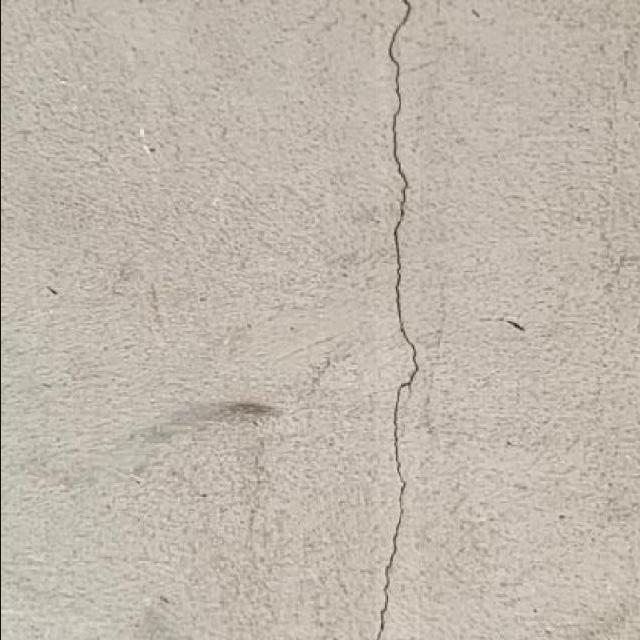crack: (369, 0, 420, 639)
